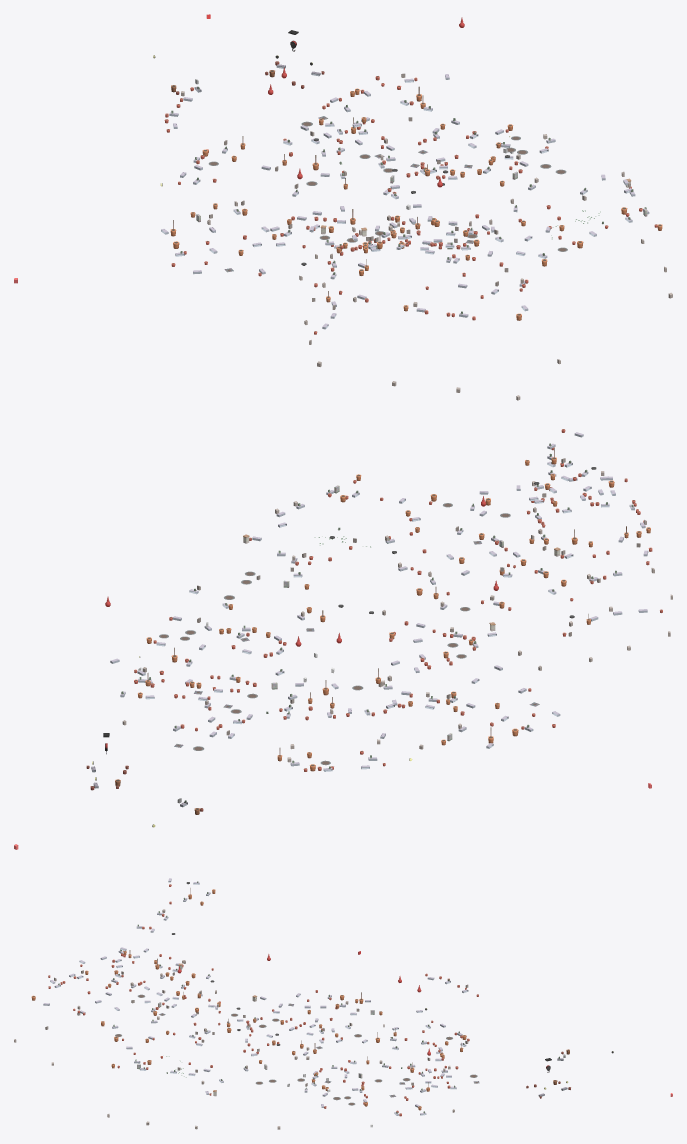
The model's file is props.glb.
3 views of the same model, one above another, from view 1: azimuth 30°, elevation 25°; view 2: azimuth 150°, elevation 25°; view 3: azimuth 270°, elevation 25° (orthographic). The views are drawn at different scales.
Visible parts, largest first — view 1: Props.007, Props.001, Props.005, Props.006, Props.009, Props.008, Props.003, Props.010; view 2: Props.007, Props.001, Props.005, Props.006, Props.008, Props.009, Props.003, Props.010; view 3: Props.007, Props.001, Props.005, Props.006, Props.009, Props.008, Props.003, Props.010.
Part boxes in pixels (x1=…): Props.007: x1=299, y1=105, x2=560, y2=400; Props.001: x1=300, y1=17, x2=510, y2=178; Props.005: x1=383, y1=124, x2=586, y2=225; Props.006: x1=500, y1=154, x2=672, y2=298; Props.009: x1=270, y1=155, x2=415, y2=241; Props.008: x1=331, y1=117, x2=517, y2=302; Props.003: x1=160, y1=67, x2=292, y2=205; Props.010: x1=14, y1=201, x2=285, y2=283; Props.007: x1=409, y1=429, x2=672, y2=670; Props.001: x1=105, y1=596, x2=297, y2=750; Props.005: x1=138, y1=580, x2=343, y2=689; Props.006: x1=243, y1=474, x2=452, y2=589; Props.008: x1=382, y1=460, x2=529, y2=655; Props.009: x1=308, y1=580, x2=498, y2=709; Props.003: x1=277, y1=633, x2=412, y2=771; Props.010: x1=419, y1=665, x2=651, y2=788; Props.007: x1=14, y1=878, x2=229, y2=1065; Props.001: x1=374, y1=1037, x2=479, y2=1116; Props.005: x1=269, y1=1040, x2=372, y2=1129; Props.006: x1=107, y1=1029, x2=267, y2=1129; Props.009: x1=252, y1=954, x2=379, y2=1064; Props.008: x1=184, y1=901, x2=266, y2=1084; Props.003: x1=390, y1=973, x2=478, y2=1060; Props.010: x1=272, y1=951, x2=384, y2=1027.
Size of the model in its own units: 27.29 by 10.61 by 43.18.
Materials: 10 (10 with a texture image).
